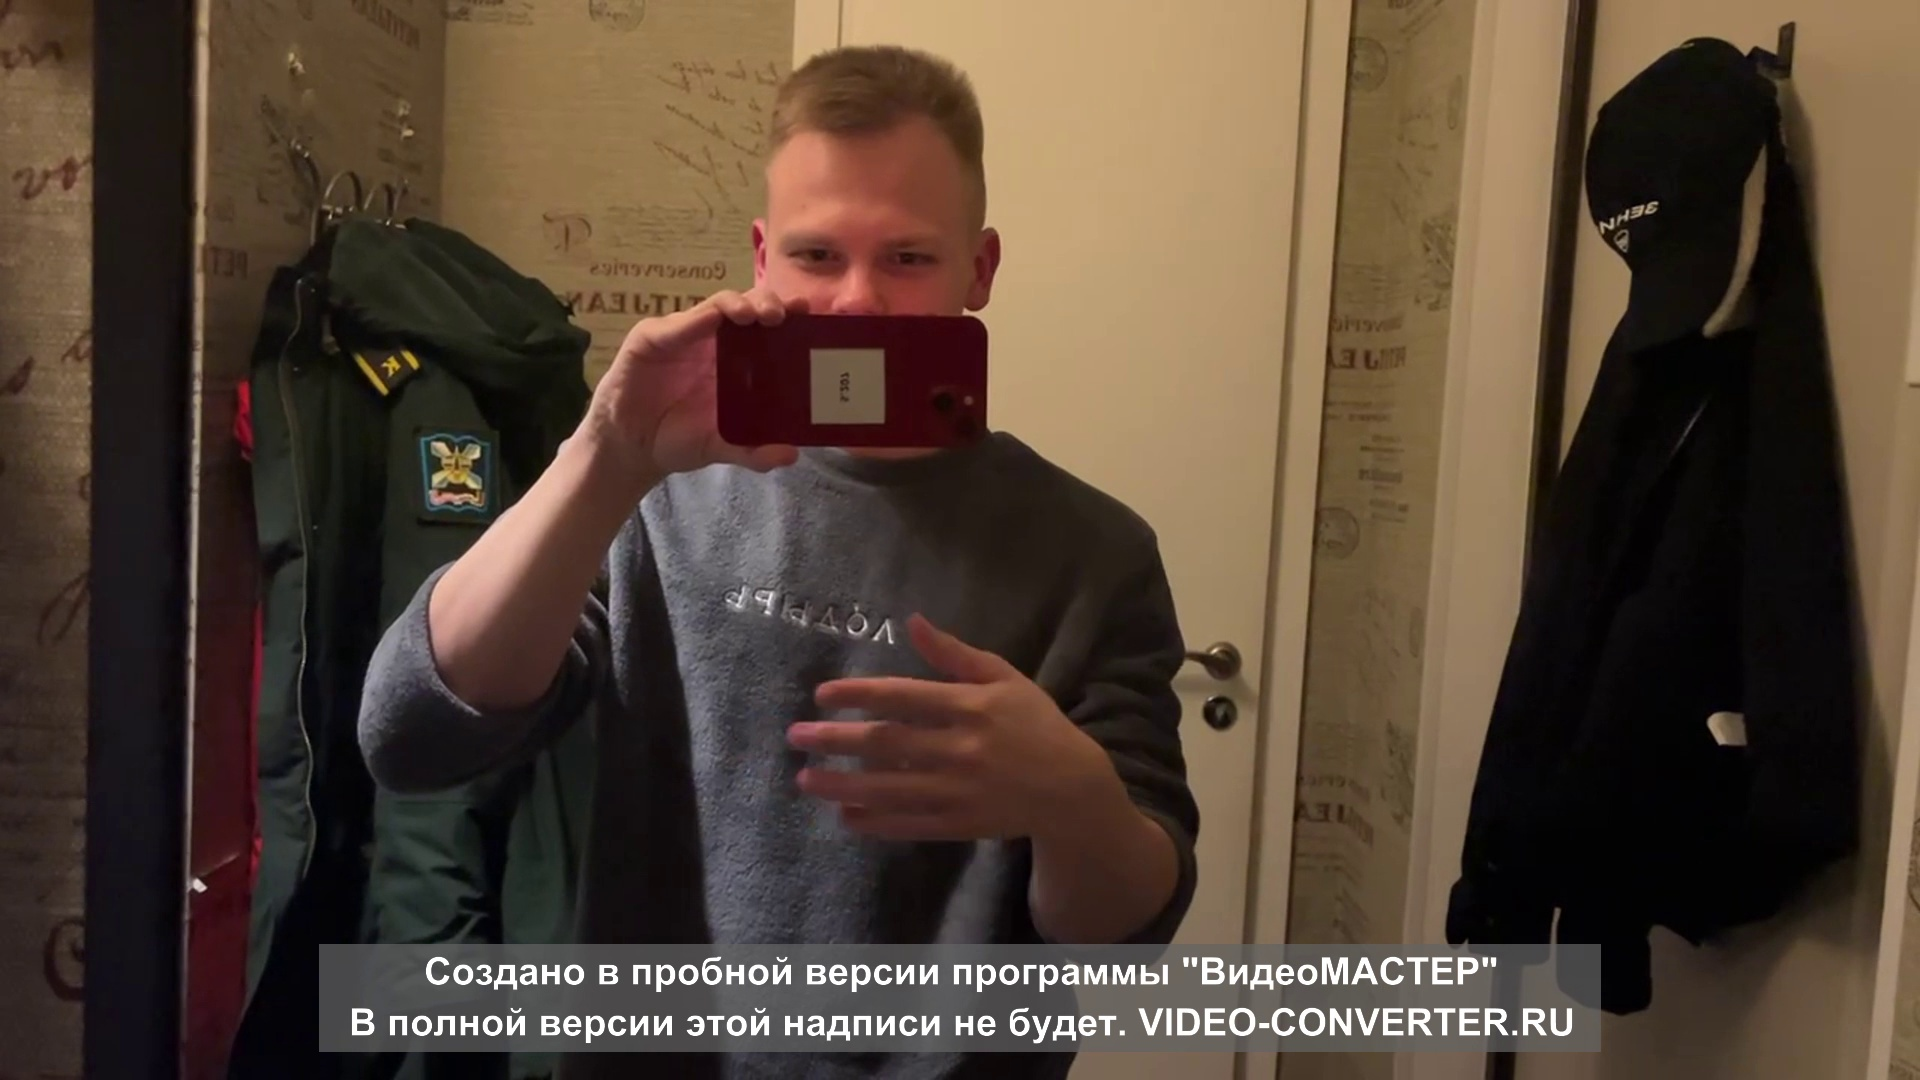Кисть: (781, 608, 1052, 845)
